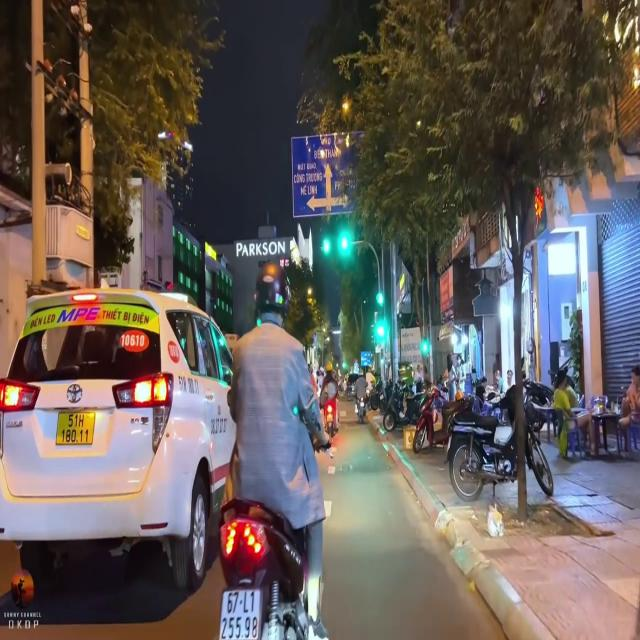bien_trang: (219, 584, 262, 640)
bien_vang: (56, 409, 96, 443)
